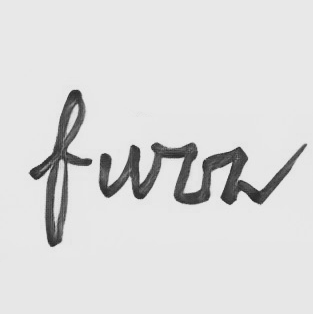f: (40, 88, 88, 250)
u: (95, 143, 145, 202)
z: (201, 144, 259, 208), (147, 139, 200, 206)
